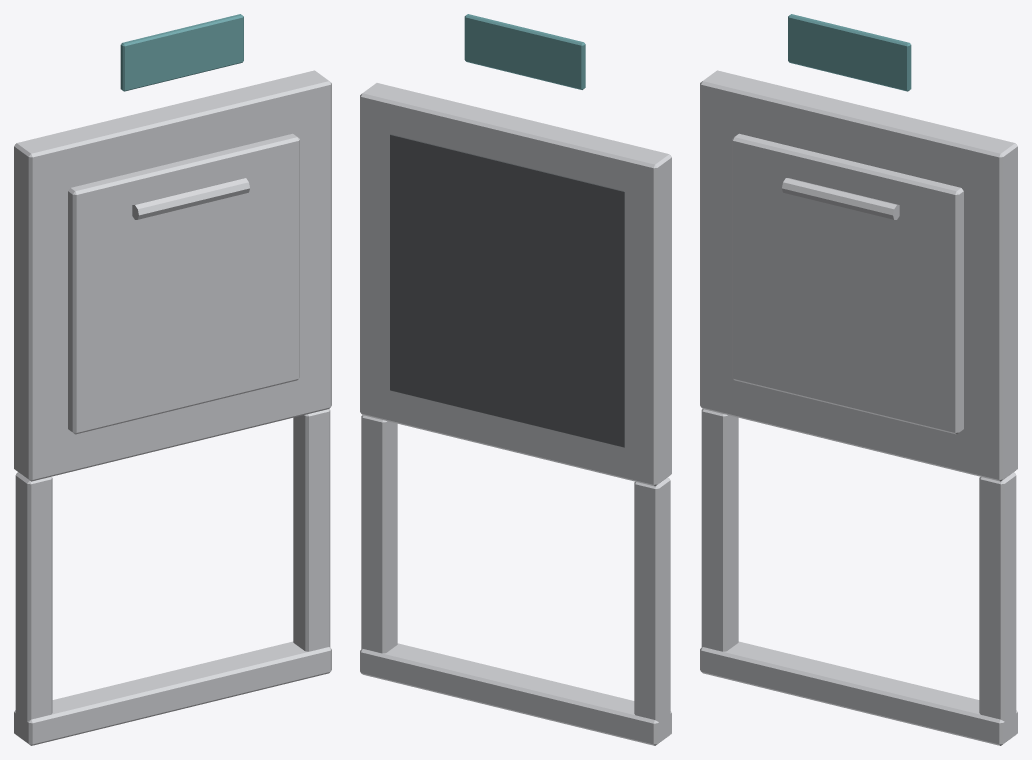
The model's file is hotel-and-resort-operations-linen-chute-hatch-59e7a6c1__25894.glb.
The picture shows the model from 3 angles, left to right: view 1: azimuth 30°, elevation 25°; view 2: azimuth 150°, elevation 25°; view 3: azimuth 330°, elevation 25°; orthographic projection.
Parts seen in each view (by area): view 1: linen-chute-hatch, flap; view 2: linen-chute-hatch; view 3: linen-chute-hatch, flap.
Boxes of the visible parts, x1,y1,x2,y2 form: linen-chute-hatch: (14, 14, 331, 745); flap: (68, 133, 299, 434); linen-chute-hatch: (360, 14, 671, 745); linen-chute-hatch: (700, 14, 1017, 745); flap: (732, 133, 963, 434).
Bounding box in the file's own units: 0.6 × 1.29 × 0.105.
